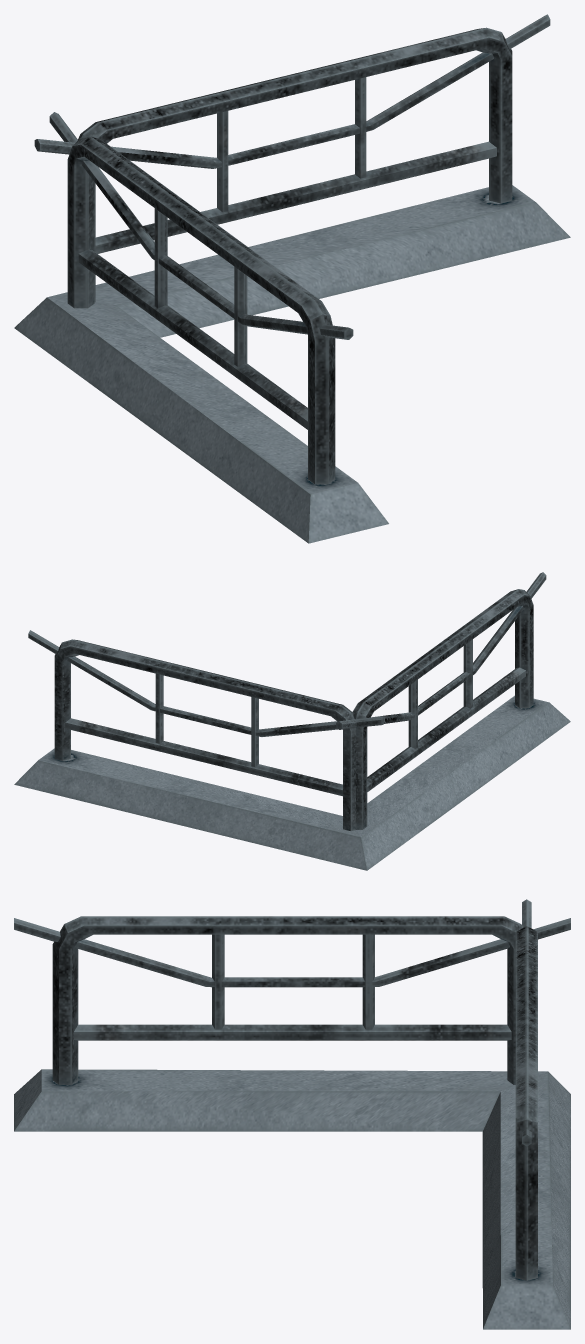
The model's file is SM_fence_corner_01.fbx.
3 renders of one model, top to bottom at view 1: azimuth 30°, elevation 25°; view 2: azimuth 150°, elevation 25°; view 3: azimuth 270°, elevation 25°, orthographic. The views are drawn at different scales.
Parts seen in each view (by area): view 1: SM_fence_corner_01; view 2: SM_fence_corner_01; view 3: SM_fence_corner_01.
Boxes of the visible parts, left/top/right/bottom form: SM_fence_corner_01: left=14, top=14, right=570, bottom=543; SM_fence_corner_01: left=14, top=572, right=570, bottom=870; SM_fence_corner_01: left=14, top=899, right=570, bottom=1329.
Size of the model in its own units: 500 by 195 by 500.
